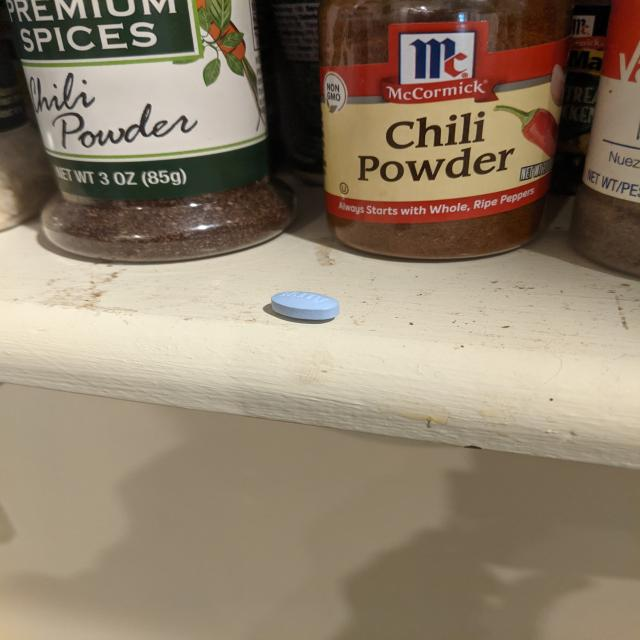non-organic waste: (270, 290, 342, 321)
